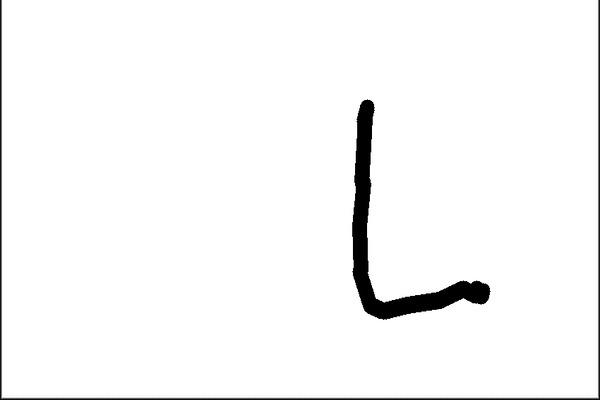L: (343, 93, 495, 321)
